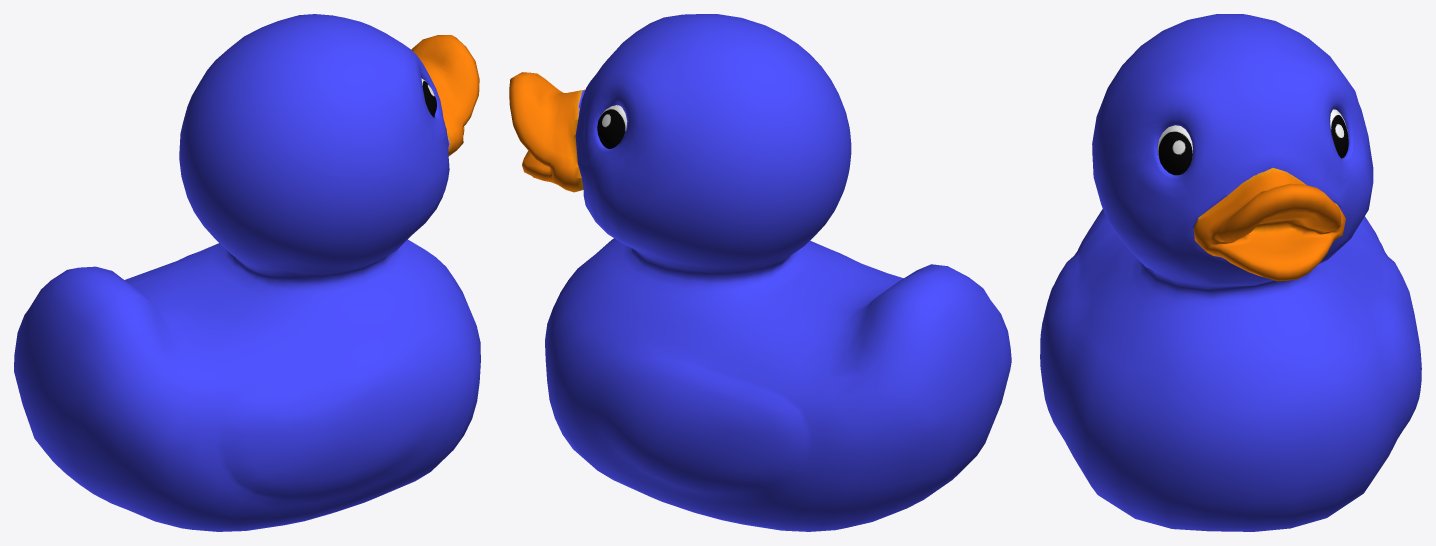
Rendered from ytka.glb.
The picture shows the model from 3 angles, left to right: view 1: azimuth 30°, elevation 25°; view 2: azimuth 150°, elevation 25°; view 3: azimuth 270°, elevation 25°; orthographic projection. The views are drawn at different scales.
Visible parts, largest first — view 1: LOD3spShape.001; view 2: LOD3spShape.001; view 3: LOD3spShape.001.
Boxes of the visible parts, x1,y1,x2,y2 form: LOD3spShape.001: (14, 14, 480, 531); LOD3spShape.001: (509, 14, 1011, 531); LOD3spShape.001: (1040, 14, 1421, 531).
Size of the model in its own units: 1.65 by 1.54 by 1.15.
1 material, 1 textured.
